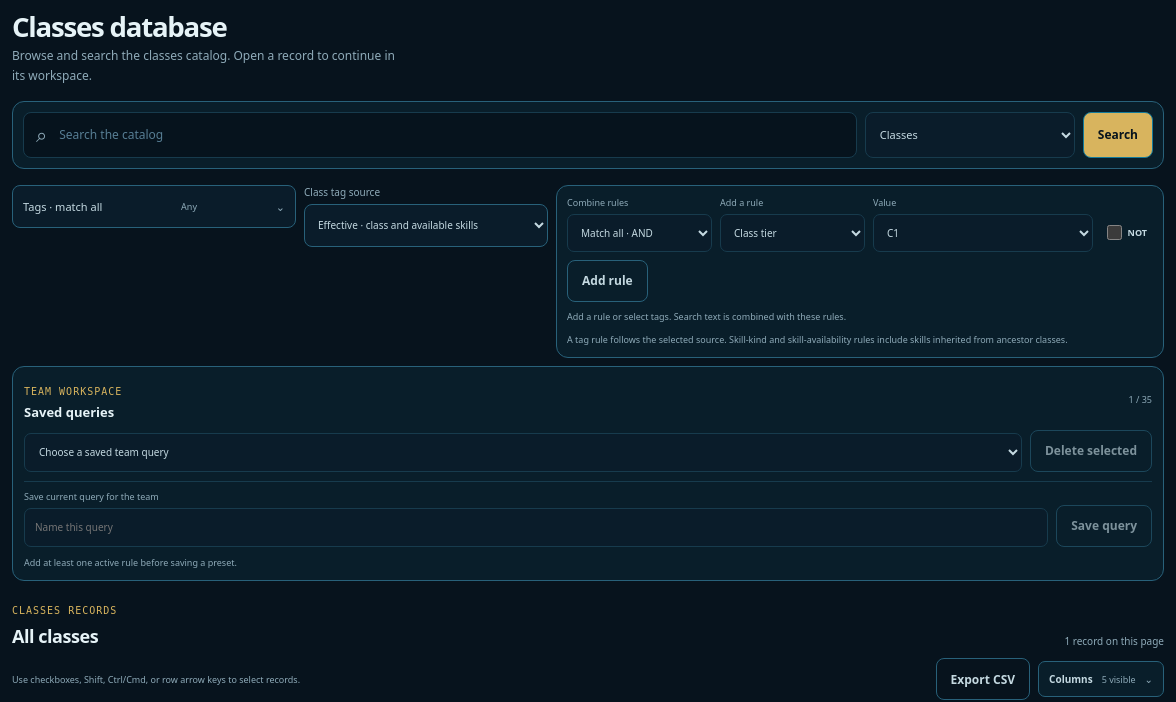
Test case: Database class tag queries › keeps the class name visible while saving other visible columns locally
What coordinates should you click on to do the following:
click the heading "Columns 5 visible"
I would click on:
 (1101, 679)
Its box is [1038, 661, 1164, 697].
(page scrolled)
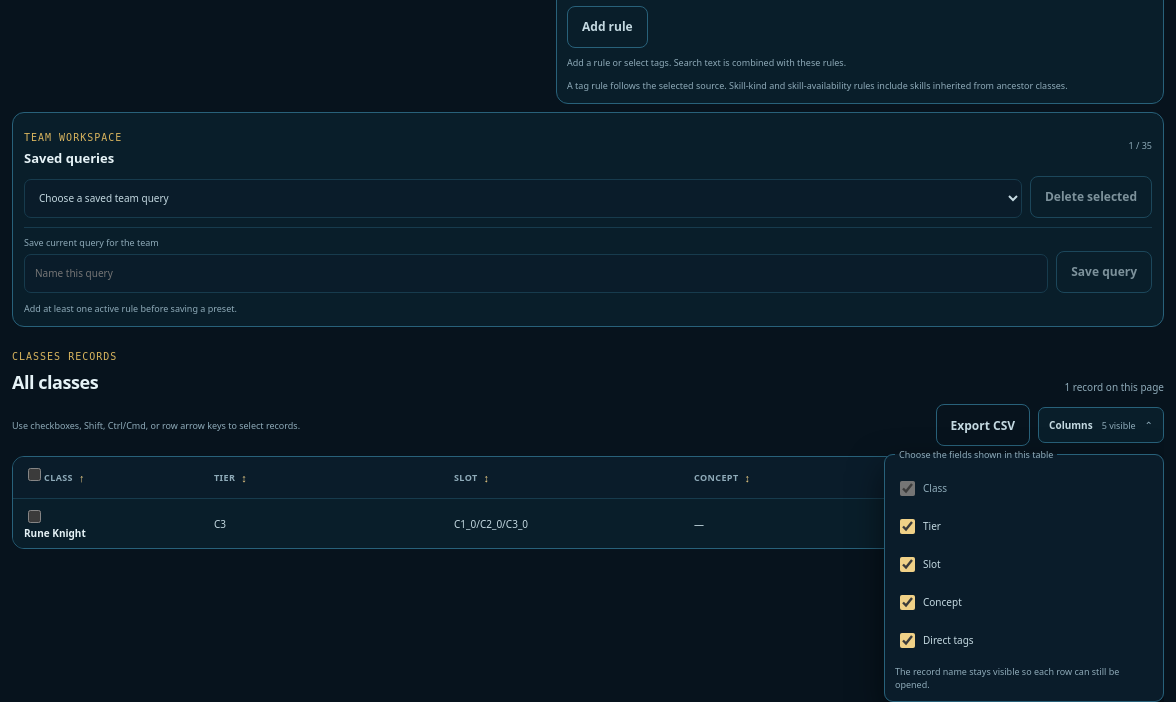
What coordinates should you click on to do the following:
click the checkbox labelled "Concept"
I would click on:
 (908, 602)
Its box is [900, 595, 915, 610].
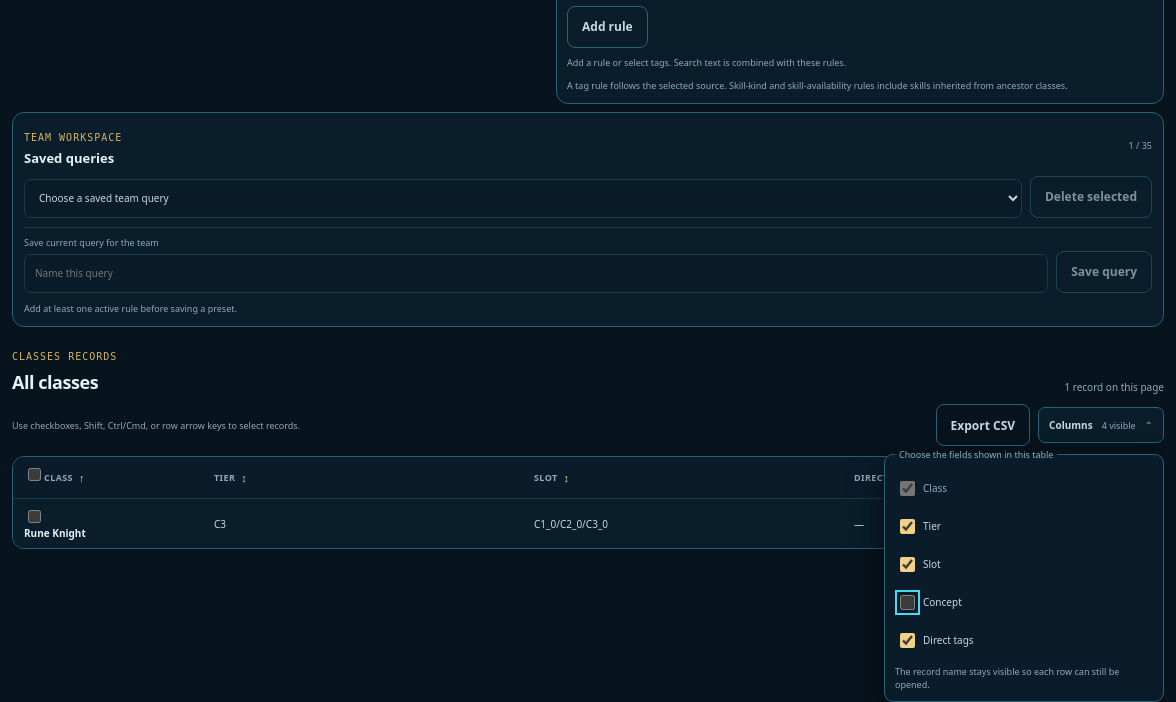
Check: the column heading "Class" is shown, box [13, 457, 203, 499]
Check: the button "Concept ↕" is gone
